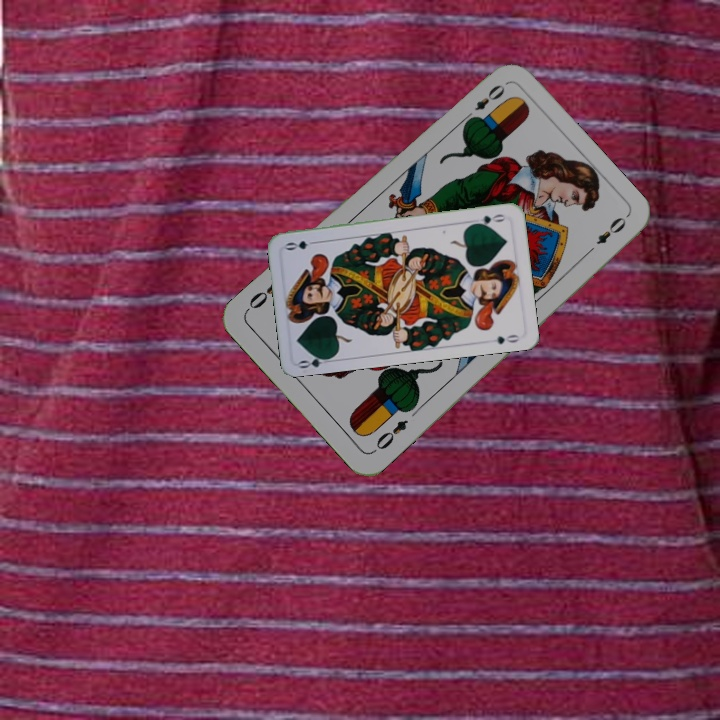EO: (459, 80, 508, 125), (369, 415, 411, 456)
GO: (295, 350, 336, 371), (469, 210, 509, 228)
